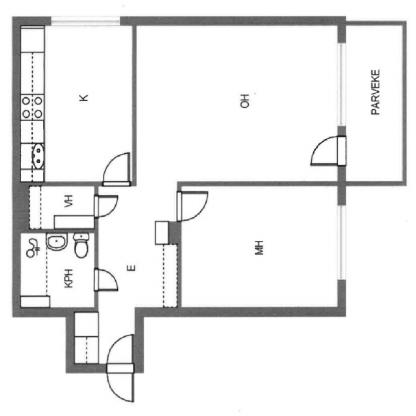door: (106, 328, 139, 405), (98, 150, 134, 190), (310, 136, 349, 171), (176, 191, 213, 221), (92, 195, 120, 222), (95, 269, 121, 295)
window: (336, 43, 346, 126), (53, 14, 119, 25), (339, 204, 347, 281)
zone: (76, 24, 338, 365), (181, 185, 338, 311), (19, 27, 132, 183), (21, 26, 131, 182), (344, 25, 402, 182), (20, 232, 95, 304), (27, 186, 93, 229)
